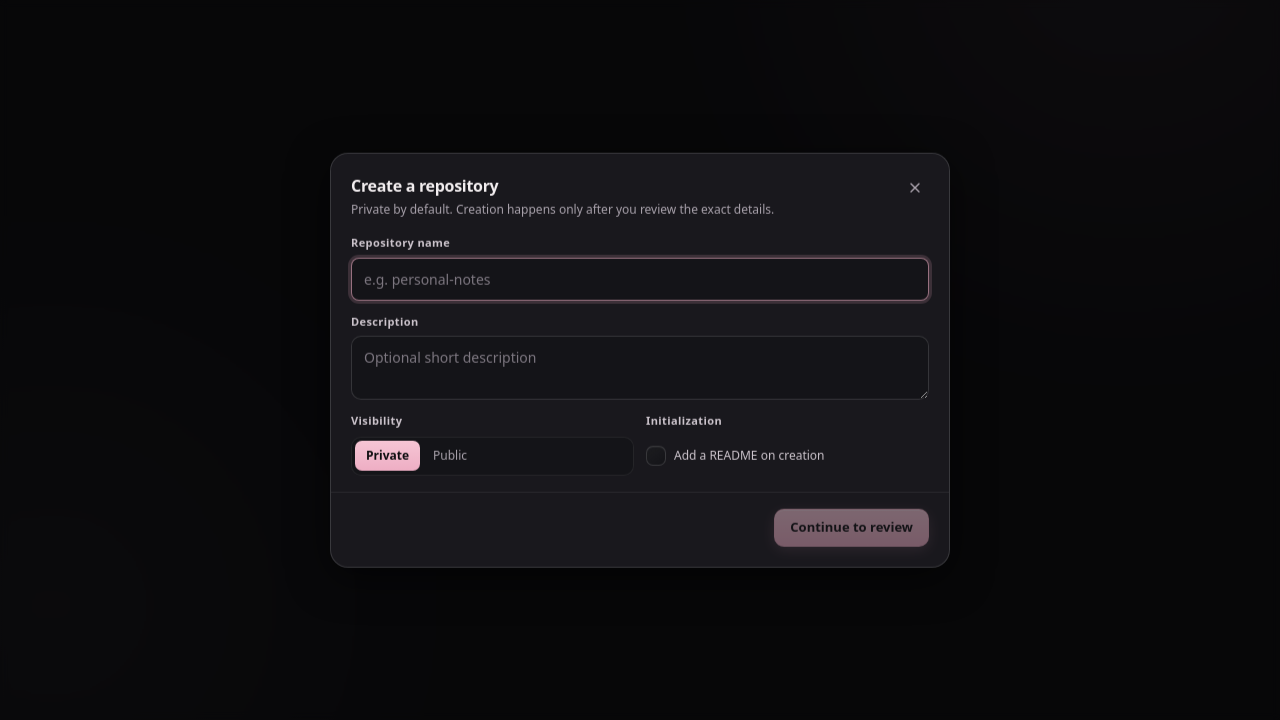
Test: NewRepositoryDialog › is private and leaves README initialization off by default
Expected: the checkbox named "Initialize with a README" is not checked, x1=646 y1=445 x2=666 y2=465
Type "personal-notes" into the field labelled "Repository name". click: [640, 279]
box: x1=351 y1=257 x2=929 y2=300
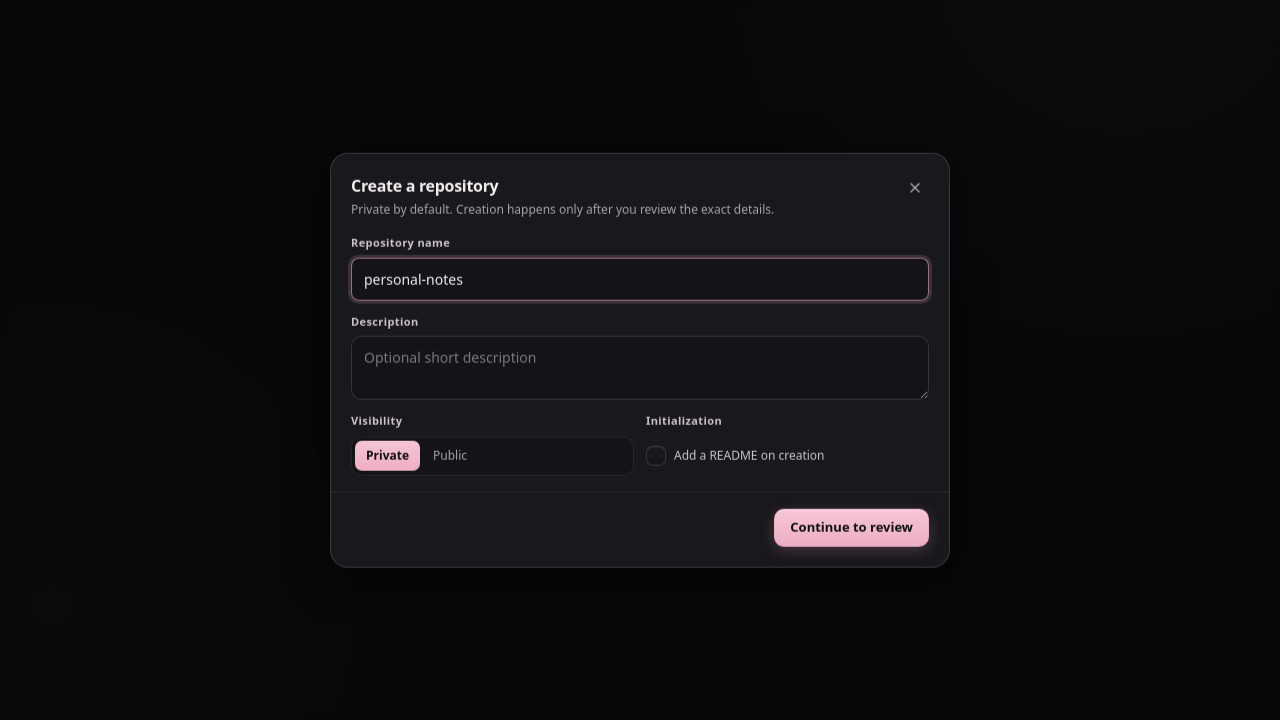
Now the button "Continue to review" is enabled
Click the button "Continue to review". click: [852, 527]
box: x1=774 y1=508 x2=929 y2=546
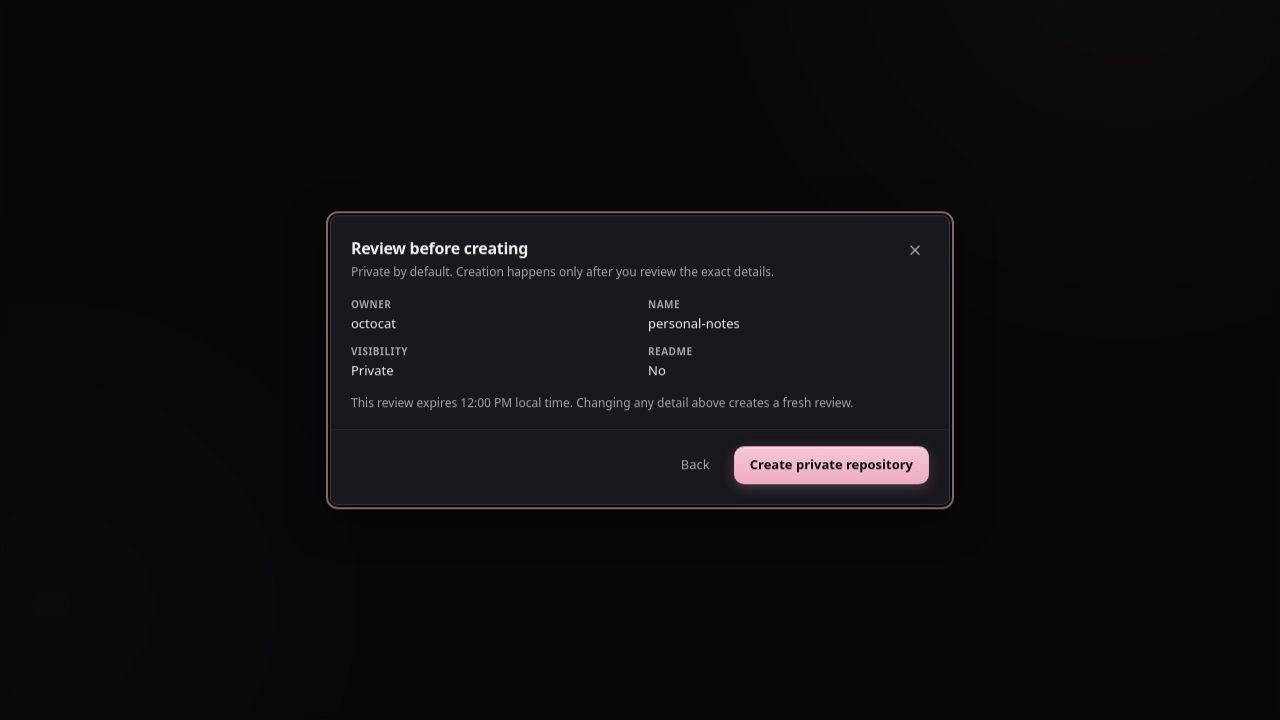
Now the heading "Review before creating" is shown, box x1=351 y1=237 x2=528 y2=259
